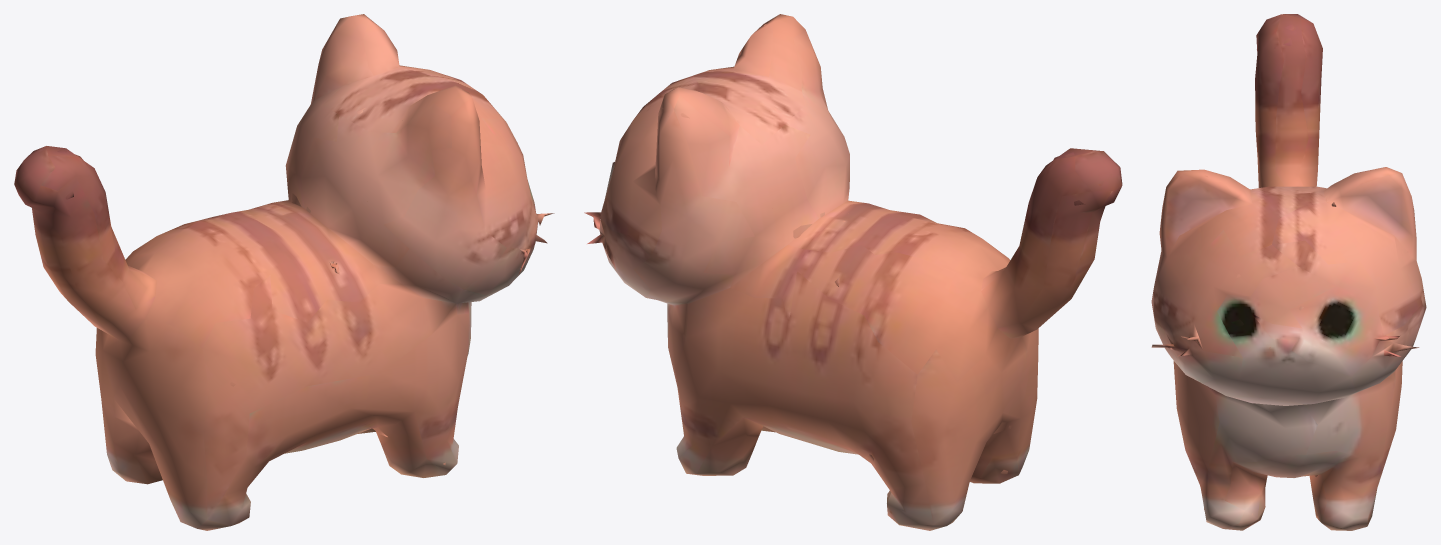
Rendered from cat.glb.
3 renders of one model, left to right at view 1: azimuth 30°, elevation 25°; view 2: azimuth 150°, elevation 25°; view 3: azimuth 270°, elevation 25°, orthographic. The views are drawn at different scales.
Size of the model in its own units: 0.9982 by 0.7368 by 0.5108.
Materials: 1 (1 with a texture image).
